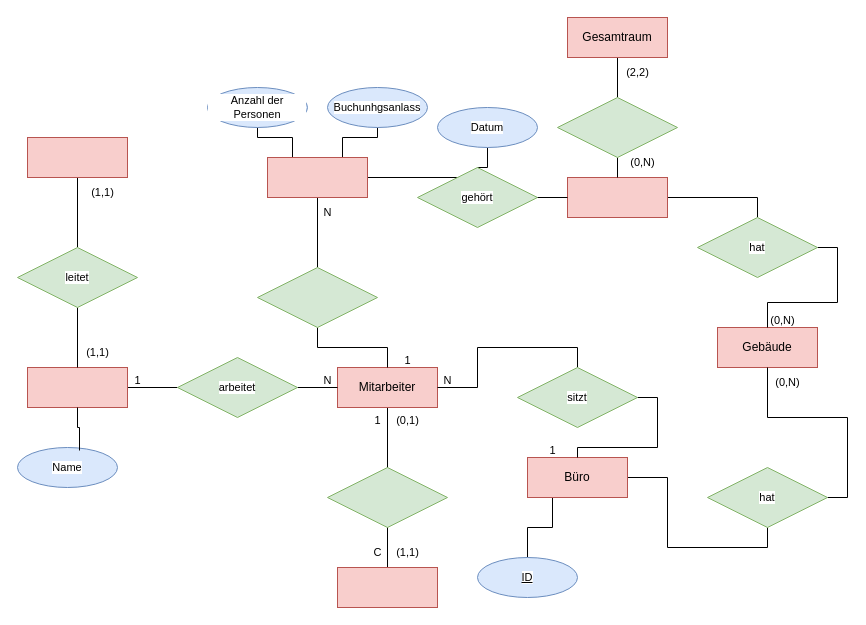
The diagram is 866 pixels wide and 625 high, and some of its shapes have lost their labels. Each missing label, with the box of its shape:
Abteilung: (26, 366, 128, 408)
besitzt: (326, 466, 448, 528)
Besprechung: (566, 176, 668, 218)
besteht aus: (556, 96, 678, 158)
bucht: (256, 266, 378, 328)
Buchung: (266, 156, 368, 198)
Leiter: (26, 136, 128, 178)
Parkplatz: (336, 566, 438, 608)
